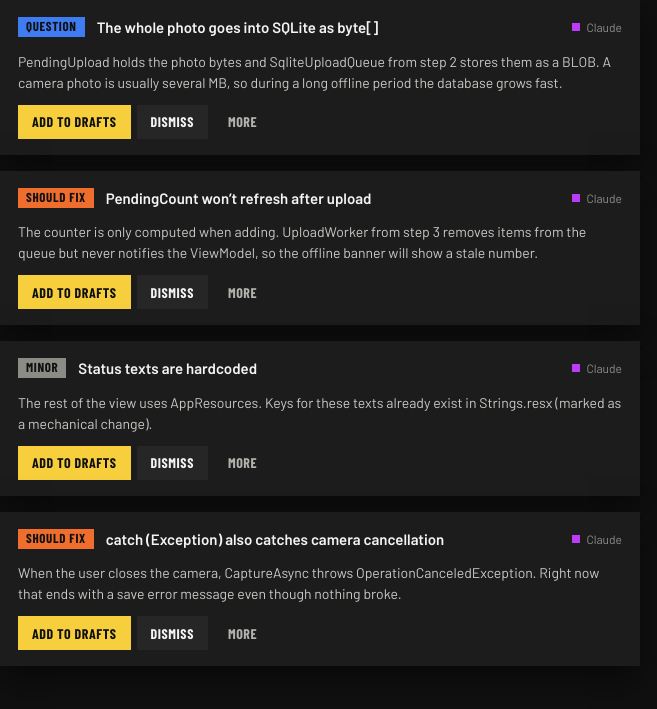
Test case: NoteCard › F-09.2 Cancel drops the edit: nothing is added and Edit and add opens with the suggested comment again
Step 1. Click the button "More" below "PendingCount won’t refresh after upload" → coordinates (243, 292), box x1=214 y1=275 x2=271 y2=309
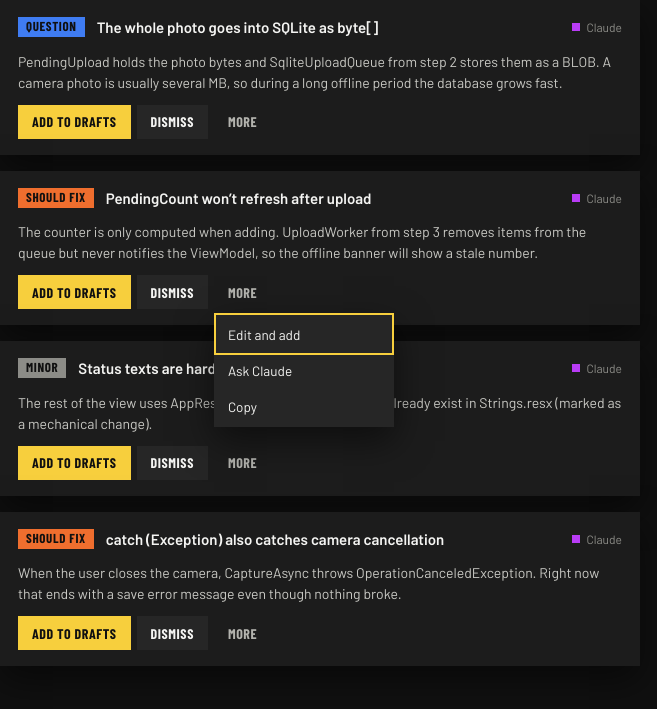
Step 2. Click the menu item "Edit and add" → coordinates (304, 334), box x1=218 y1=317 x2=390 y2=351
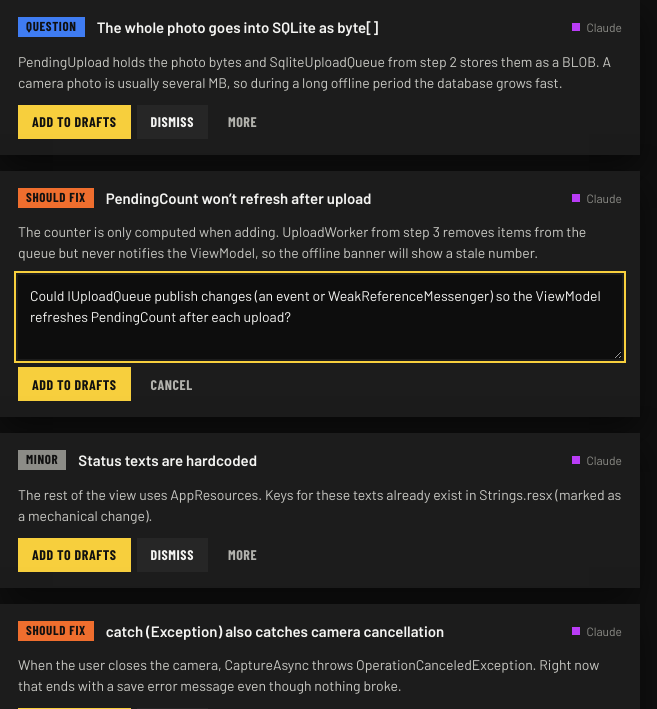
Step 3. Replace the text in the text box named "Suggested comment" with "Something else" → coordinates (320, 317), box x1=18 y1=275 x2=622 y2=359
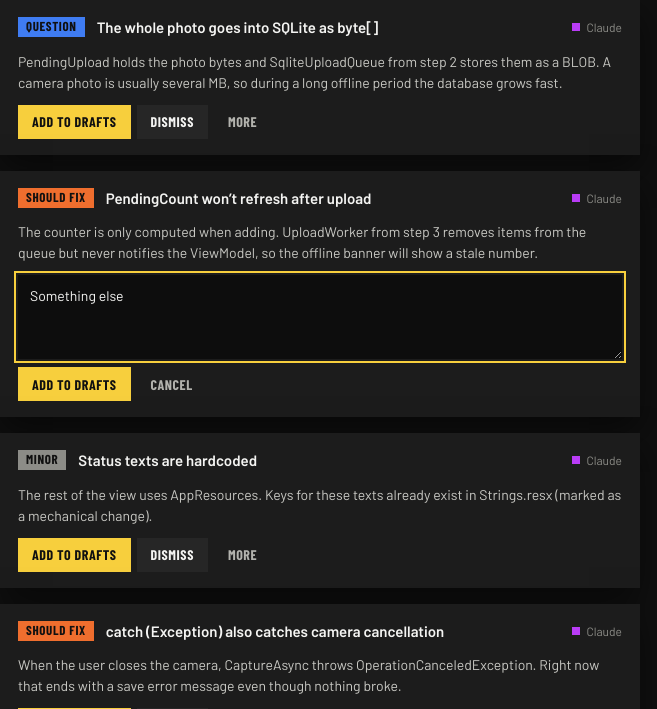
Step 4. Click the button "Cancel" → coordinates (172, 384), box x1=137 y1=367 x2=207 y2=401
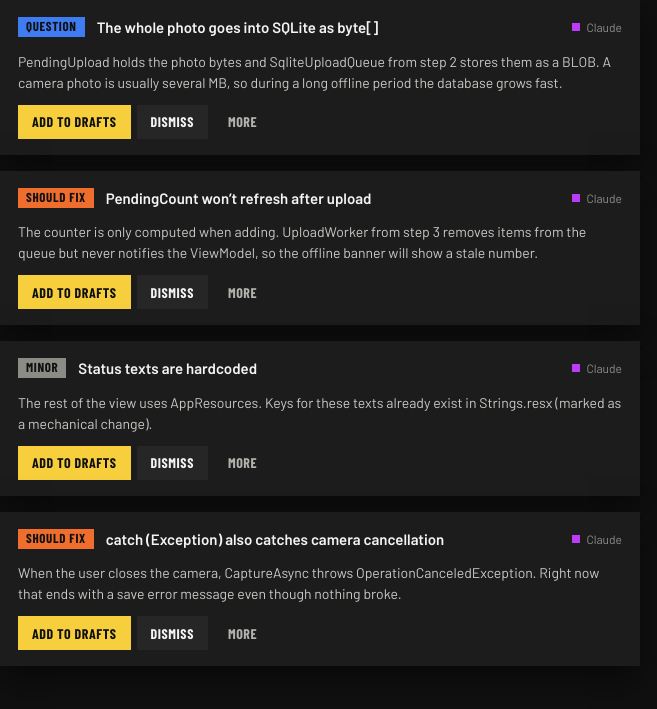
Step 5. Click the button "More" below "PendingCount won’t refresh after upload" → coordinates (243, 292), box x1=214 y1=275 x2=271 y2=309
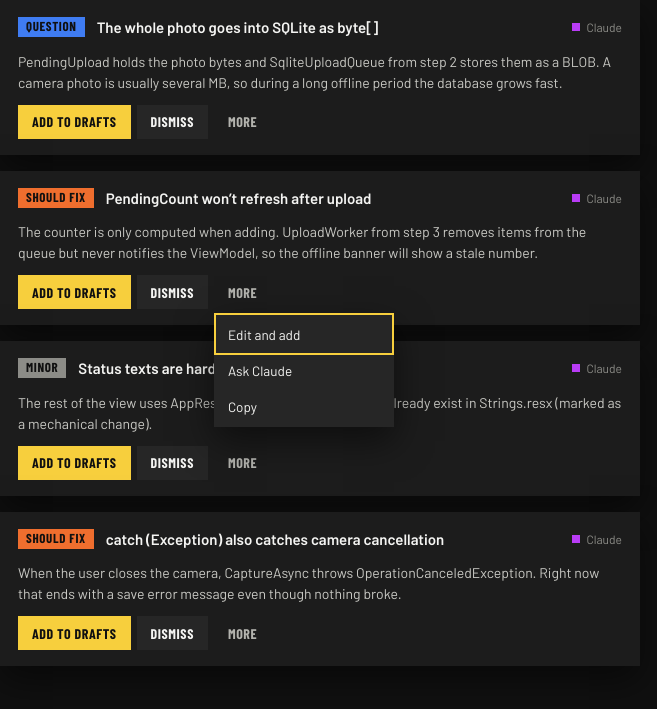
Step 6. Click the menu item "Edit and add" → coordinates (304, 334), box x1=218 y1=317 x2=390 y2=351
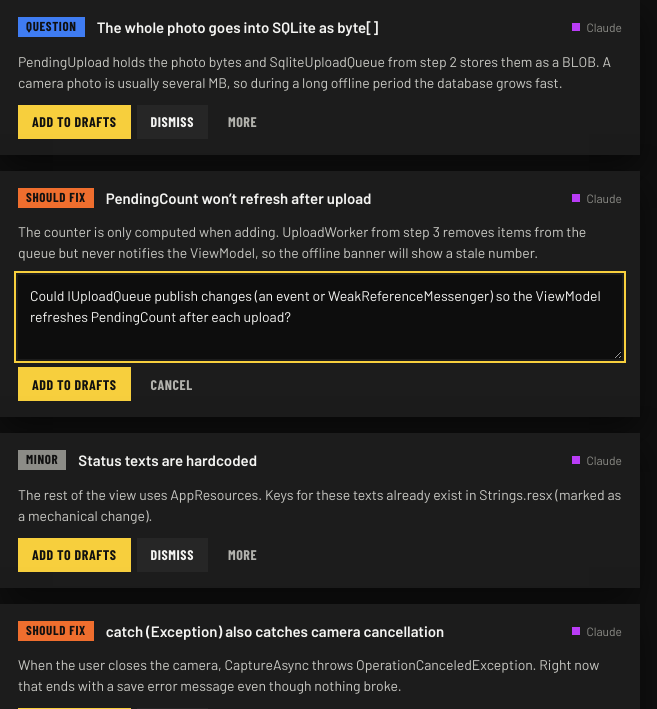
Result: the text box named "Suggested comment" holds "Could IUploadQueue publish changes (an event or WeakReferenceMessenger) so the ViewModel refreshes PendingCount after each upload?" at x1=18 y1=275 x2=622 y2=359
